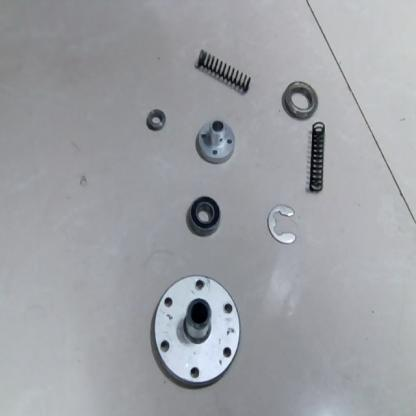FOD: (151, 270, 245, 388), (193, 43, 257, 97), (195, 115, 236, 170), (306, 122, 330, 198), (189, 192, 223, 236), (283, 78, 318, 120), (266, 202, 300, 245), (146, 105, 166, 132)
